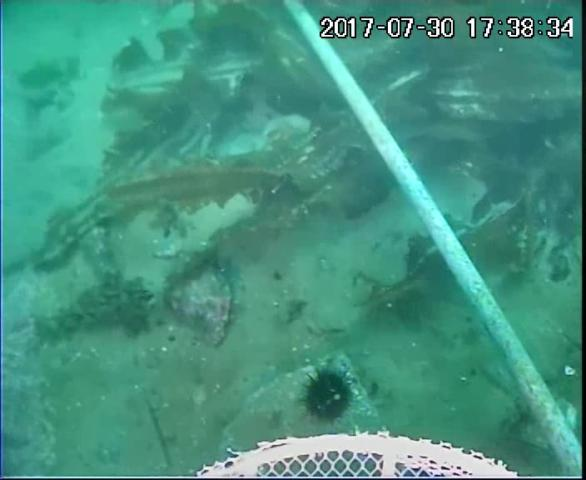echinus: (305, 369, 354, 424)
waterweeds: (103, 1, 586, 316)
